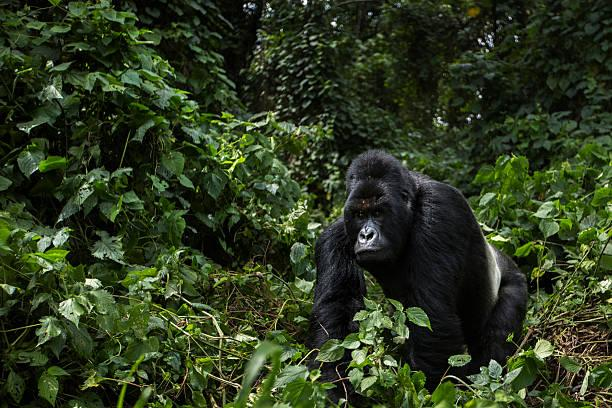goriile_montagne: (299, 136, 554, 407)
